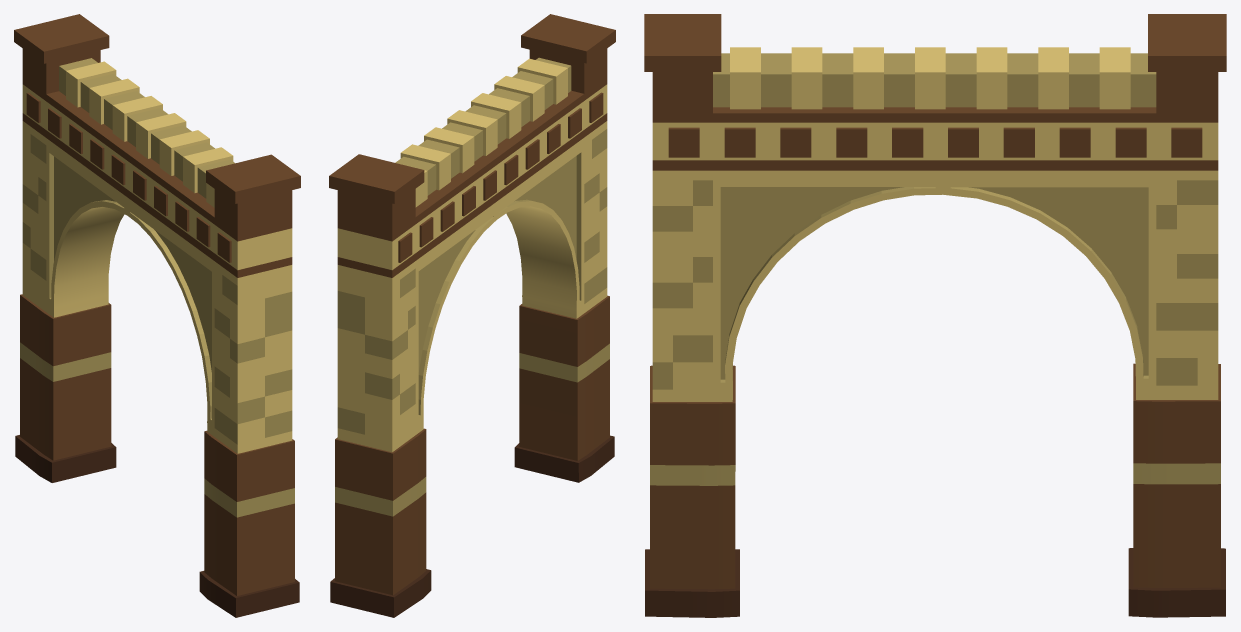
Rendered from Gate.FBX.
The picture shows the model from 3 angles, left to right: view 1: azimuth 30°, elevation 25°; view 2: azimuth 150°, elevation 25°; view 3: azimuth 270°, elevation 25°; orthographic projection. The views are drawn at different scales.
Visible parts, largest first — view 1: Line002; view 2: Line002; view 3: Line002.
Boxes of the visible parts, x1=… form: Line002: x1=14, y1=14, x2=300, y2=617; Line002: x1=329, y1=14, x2=615, y2=617; Line002: x1=644, y1=14, x2=1226, y2=617.
Bounding box in the file's own units: 13.82 × 82.48 × 77.54.
